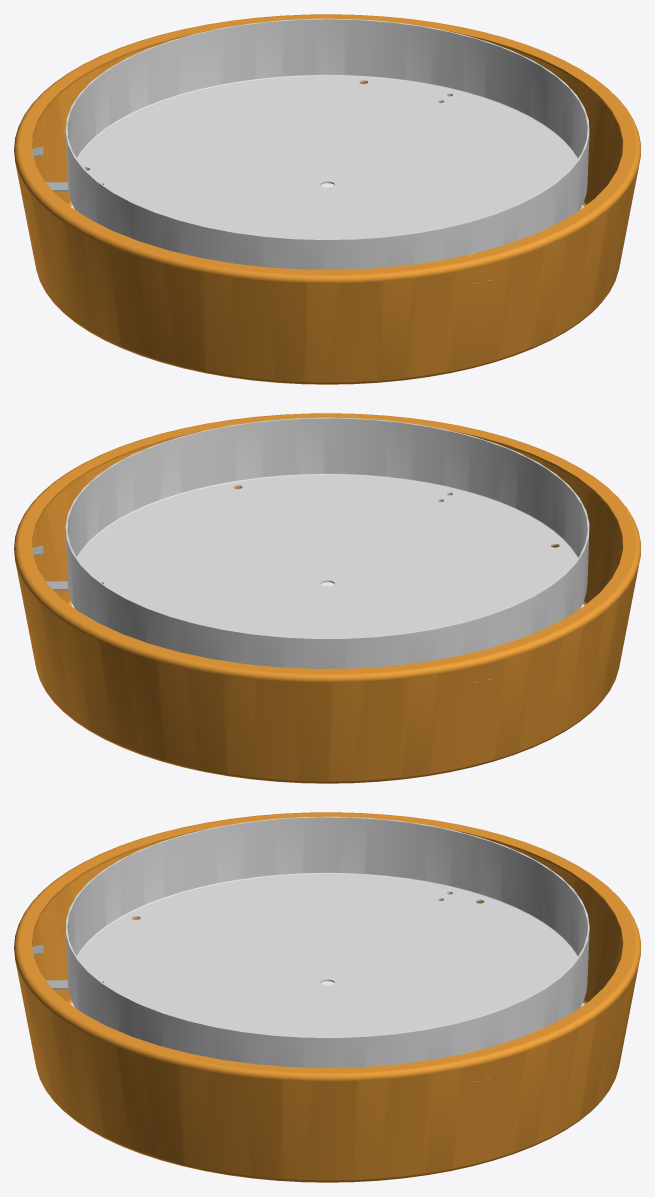
The model's file is LunarePlafon.glb.
The picture shows the model from 3 angles, top to bottom: view 1: azimuth 30°, elevation 25°; view 2: azimuth 150°, elevation 25°; view 3: azimuth 270°, elevation 25°; orthographic projection.
Visible parts, largest first — view 1: 3DGeom-4, 3DGeom-1; view 2: 3DGeom-4, 3DGeom-1; view 3: 3DGeom-4, 3DGeom-1.
Part boxes in pixels (left/top/right/bottom): 3DGeom-4: left=65, top=18, right=589, bottom=269; 3DGeom-1: left=14, top=14, right=640, bottom=384; 3DGeom-4: left=65, top=417, right=589, bottom=668; 3DGeom-1: left=14, top=413, right=640, bottom=783; 3DGeom-4: left=66, top=816, right=589, bottom=1067; 3DGeom-1: left=14, top=812, right=640, bottom=1182.
Size of the model in its own units: 0.3499 by 0.0822 by 0.3498.
Materials: 3 (1 with a texture image).
